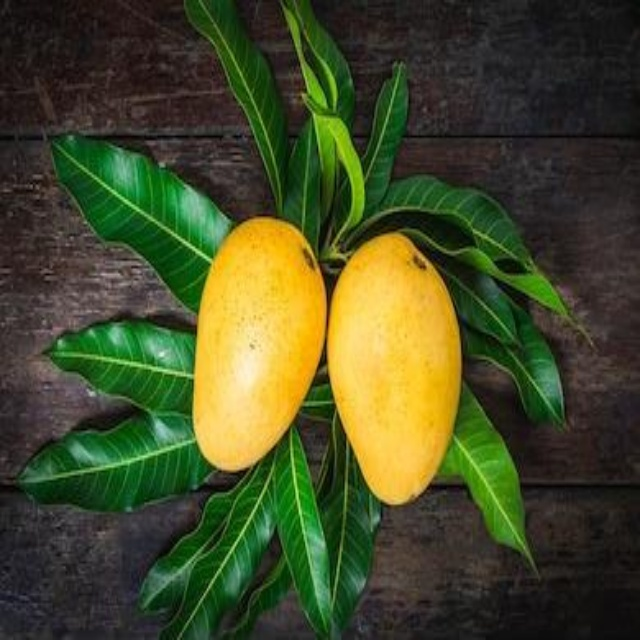mango: (327, 234, 461, 507), (189, 219, 323, 475)
